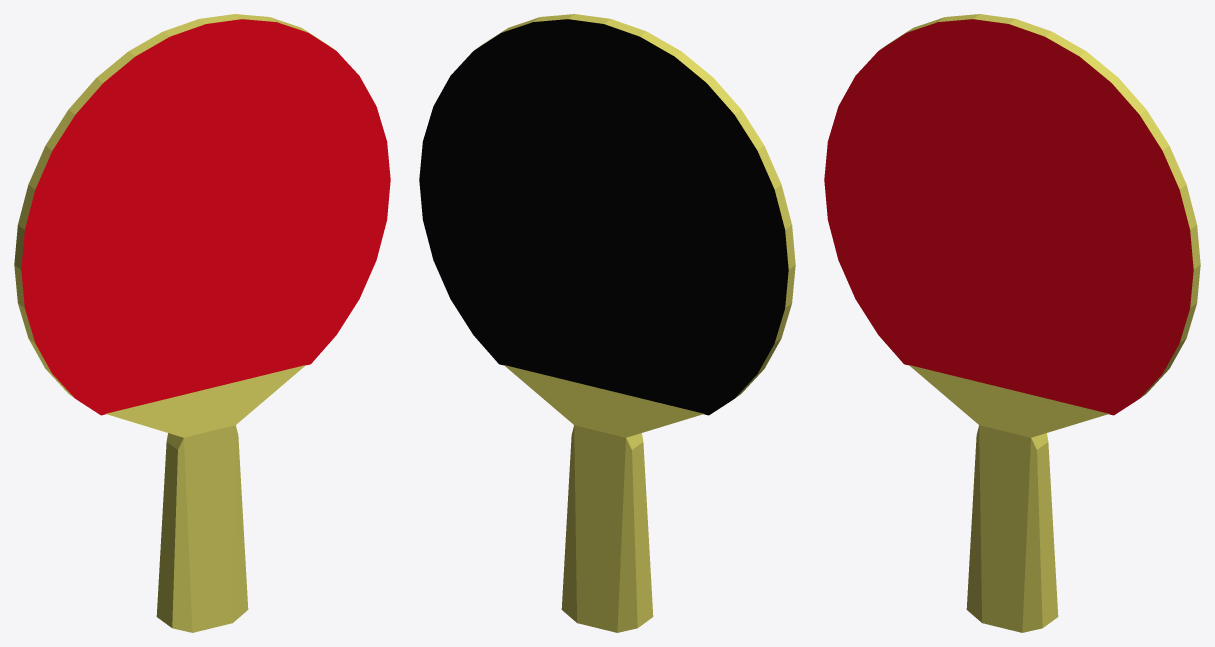
Rendered from paddle.gltf.
3 views of the same model, side by side, from view 1: azimuth 30°, elevation 25°; view 2: azimuth 150°, elevation 25°; view 3: azimuth 330°, elevation 25° (orthographic).
Parts seen in each view (by area): view 1: Cylinder.001, Cube; view 2: Cylinder.001, Cube; view 3: Cylinder.001, Cube.
Boxes of the visible parts, bbox=[...] form: Cylinder.001: bbox=[14, 14, 390, 415]; Cube: bbox=[106, 365, 305, 632]; Cylinder.001: bbox=[419, 14, 795, 415]; Cube: bbox=[504, 365, 703, 632]; Cylinder.001: bbox=[824, 14, 1200, 415]; Cube: bbox=[909, 365, 1108, 632].
Bounding box in the file's own units: 6.09 × 9.43 × 0.5829.
